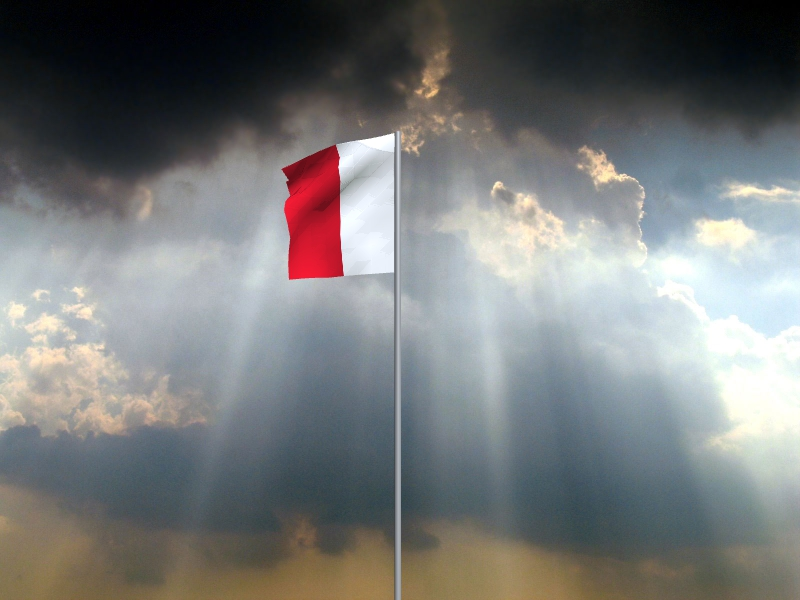mc: (281, 133, 394, 282)
